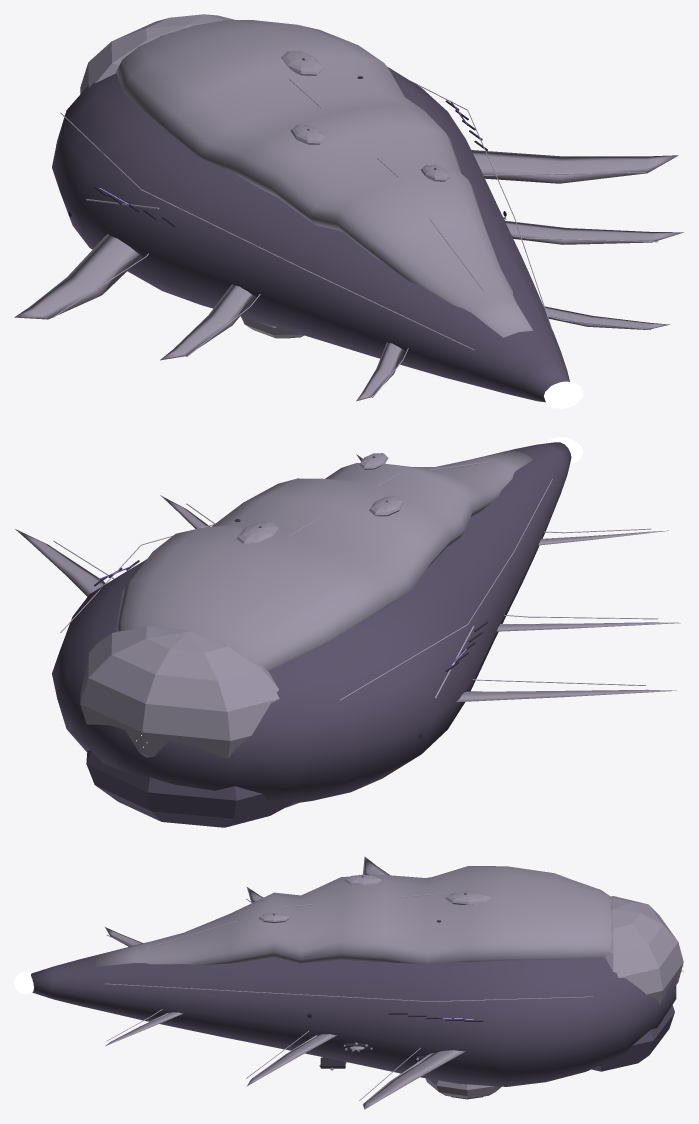
The picture shows the model from 3 angles, top to bottom: view 1: azimuth 30°, elevation 25°; view 2: azimuth 150°, elevation 25°; view 3: azimuth 270°, elevation 25°; orthographic projection. The views are drawn at different scales.
Visible parts, largest first — view 1: RIMWARD_HULL, RIMWARD_ENGINE_GLOW; view 2: RIMWARD_HULL; view 3: RIMWARD_HULL.
Boxes of the visible parts, x1=… form: RIMWARD_HULL: x1=14, y1=14, x2=683, y2=402; RIMWARD_ENGINE_GLOW: x1=544, y1=381, x2=583, y2=408; RIMWARD_HULL: x1=15, y1=442, x2=680, y2=827; RIMWARD_HULL: x1=31, y1=856, x2=683, y2=1109.
Size of the model in its own units: 76.01 by 29.23 by 85.07.
